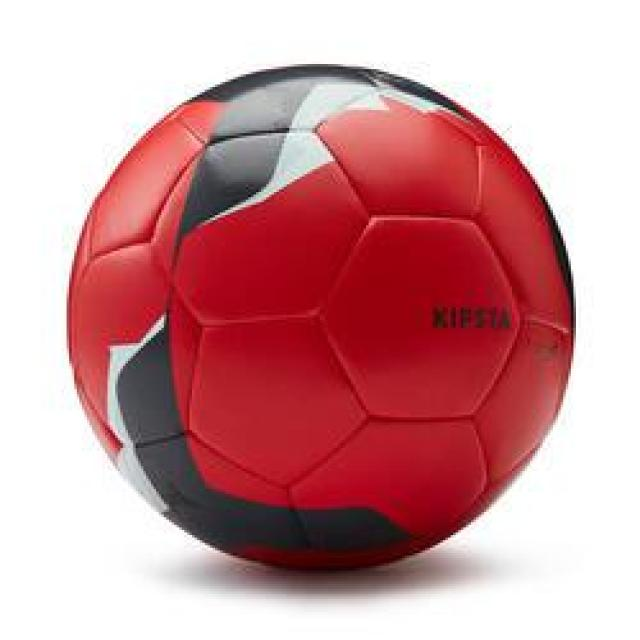ball: (55, 55, 585, 585)
